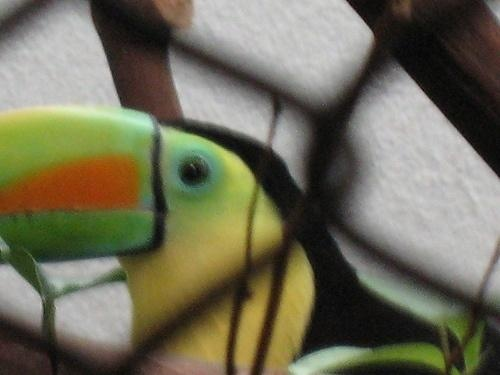bird: (3, 99, 500, 375)
